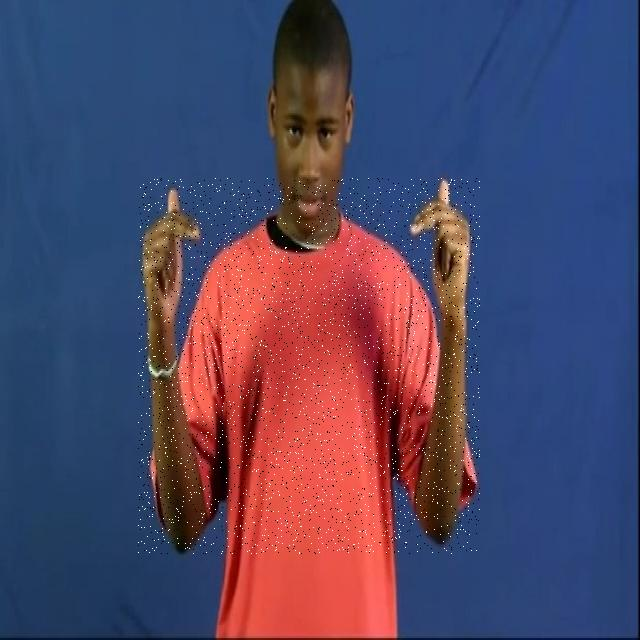bacon: (138, 178, 480, 554)
